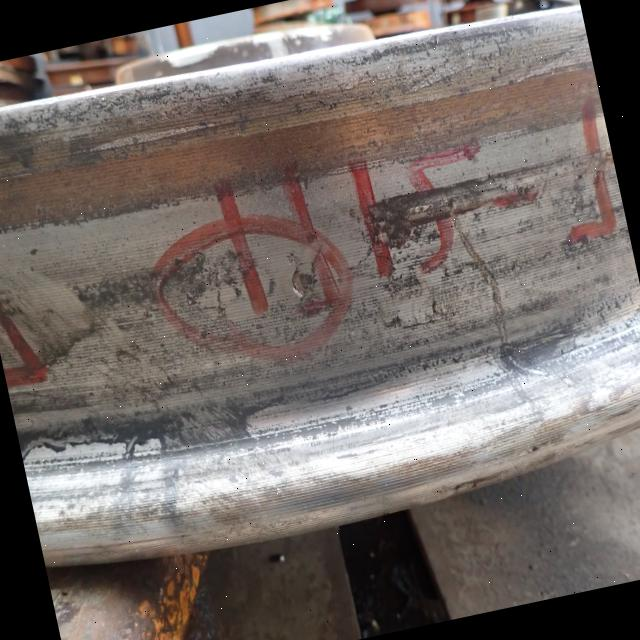Contact_Fatigue_Cracks: (150, 245, 262, 309), (398, 50, 483, 98)
Peeling: (289, 265, 322, 303)
